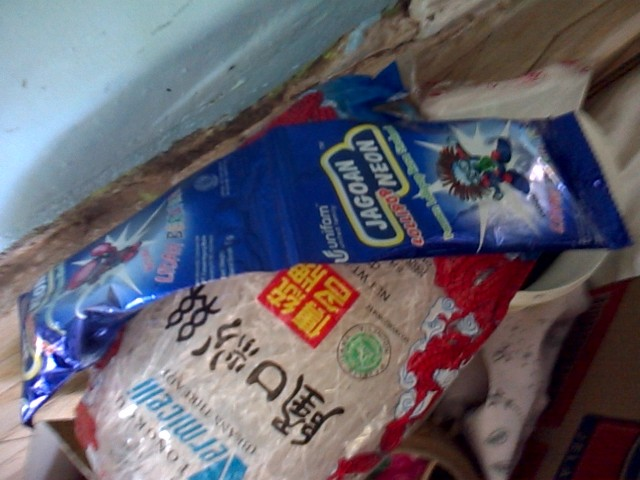jagoan neon: (254, 111, 631, 271)
